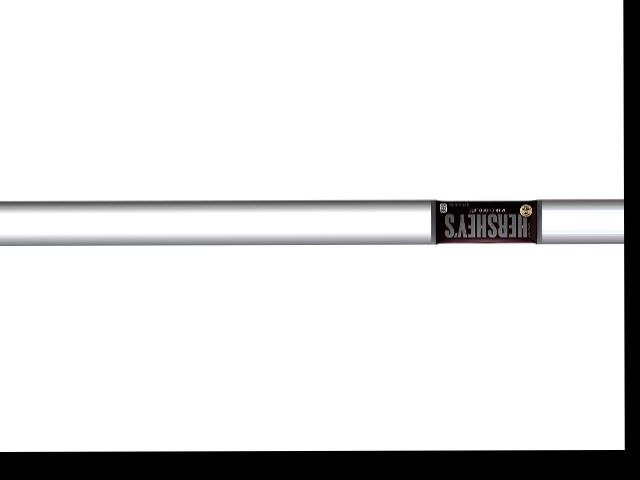chocolate: (430, 194, 539, 242)
